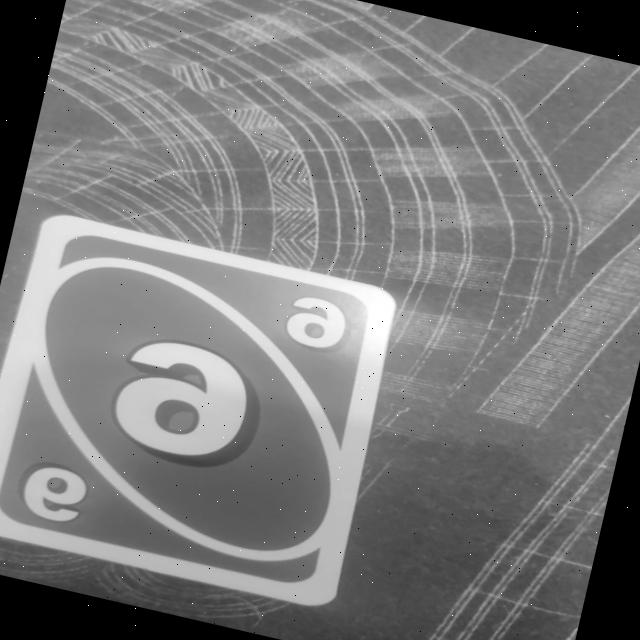card_6: (0, 204, 408, 613)
